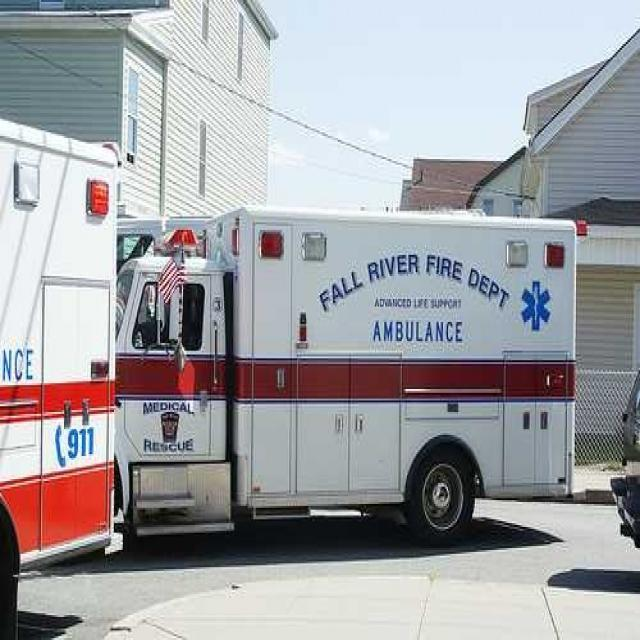emergency-vehicle: (120, 188, 578, 532)
